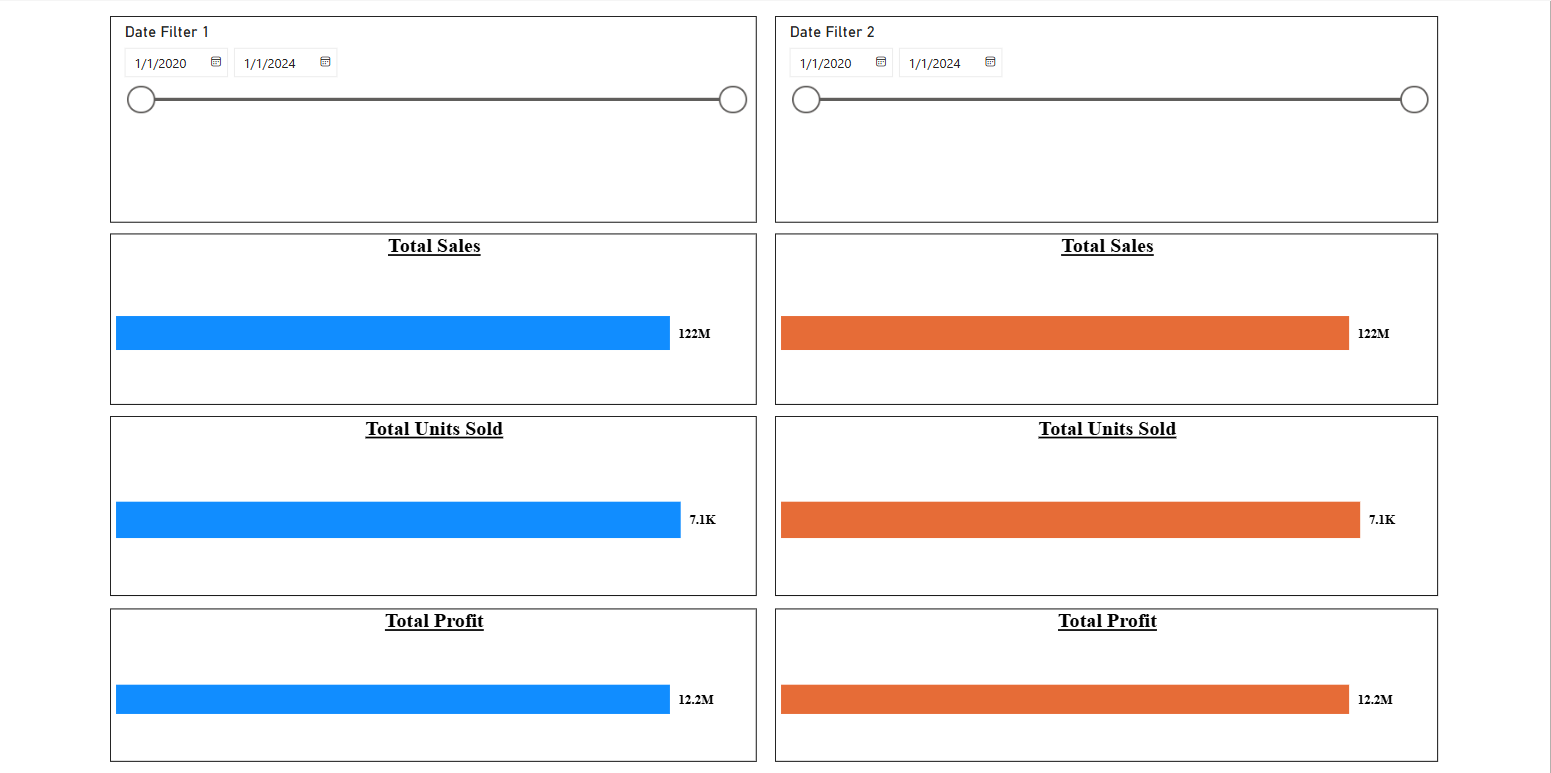

The dashboard page shown, as its layout file describes it:
{"tool":"powerbi","page":{"name":"Edit Interactions","canvas":[1280,720],"ordinal":3},"visuals":[{"type":"slicer","fields":{"Values":["Fact Table.Date (dd/mm/yyyy)"]},"box":[23.3,13.7,601,192.1],"z":0},{"type":"slicer","fields":{"Values":["Fact Table.Date (dd/mm/yyyy)"]},"box":[640.8,13.7,616.1,192.1],"z":1000},{"type":"barChart","title":"Total Sales","fields":{"Y":["Sum(Fact Table.Net Sales)"]},"box":[23.3,215.4,601,159.2],"z":2000},{"type":"barChart","fields":{"Y":["Sum(Fact Table.Units Sold)"]},"box":[23.3,385.6,601,167.4],"z":3000},{"type":"barChart","title":"Total Profit","fields":{"Y":["Sum(Fact Table.Profit)"]},"box":[23.3,564,601,142.7],"z":4000},{"type":"barChart","title":"Total Sales","fields":{"Y":["Sum(Fact Table.Net Sales)"]},"box":[640.8,215.4,616.1,159.2],"z":5000},{"type":"barChart","fields":{"Y":["Sum(Fact Table.Units Sold)"]},"box":[640.8,385.6,616.1,167.4],"z":6000},{"type":"barChart","title":"Total Profit","fields":{"Y":["Sum(Fact Table.Profit)"]},"box":[640.8,564,616.1,142.7],"z":7000}]}

Visuals, with their boxes on the page's 1280x720 design canvas (x1, y1, x2, y2). These are canvas units, not pixel positions in the 1551x773 screenshot, which may show the page scaled, cropped or inside an application window:
slicer - Fact Table.Date (dd/mm/yyyy): <region>23, 14, 624, 206</region>
slicer - Fact Table.Date (dd/mm/yyyy): <region>641, 14, 1257, 206</region>
"Total Sales" barChart: <region>23, 215, 624, 375</region>
barChart - Sum(Fact Table.Units Sold): <region>23, 386, 624, 553</region>
"Total Profit" barChart: <region>23, 564, 624, 707</region>
"Total Sales" barChart: <region>641, 215, 1257, 375</region>
barChart - Sum(Fact Table.Units Sold): <region>641, 386, 1257, 553</region>
"Total Profit" barChart: <region>641, 564, 1257, 707</region>
